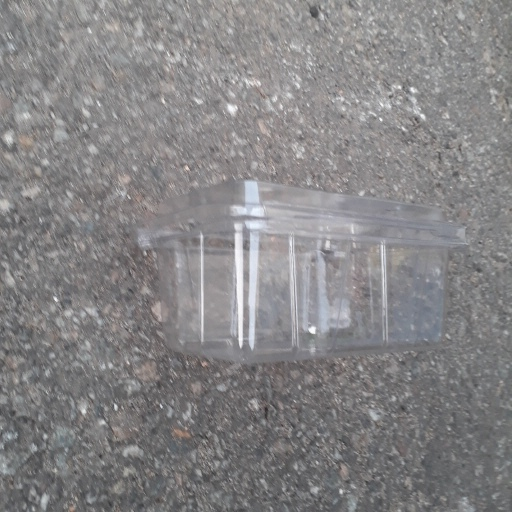Plastic_4: (135, 177, 465, 359)
